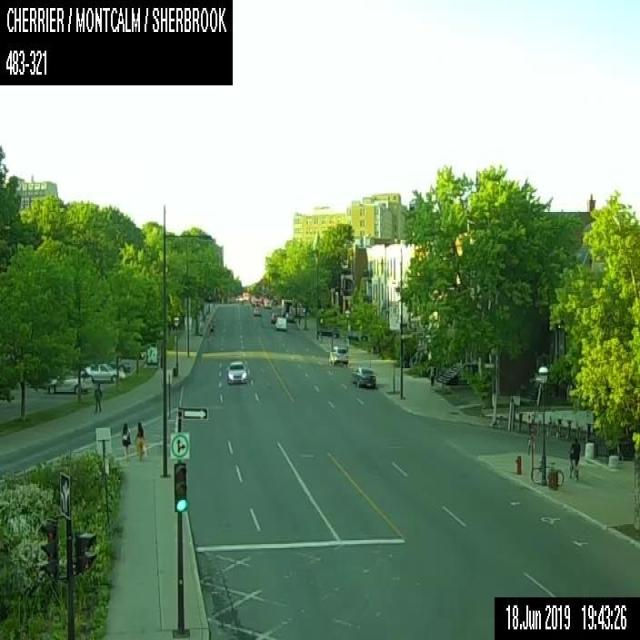cyclist: (568, 436, 580, 480)
pedestrian: (121, 422, 130, 458), (136, 420, 144, 460), (94, 382, 101, 414), (429, 370, 435, 390)
vehicle: (46, 371, 92, 393), (79, 362, 116, 382), (225, 359, 248, 384), (350, 366, 376, 386), (328, 344, 348, 364), (280, 297, 294, 321), (110, 360, 130, 372), (274, 316, 286, 329), (270, 311, 278, 322), (253, 304, 261, 315), (263, 298, 271, 307)
